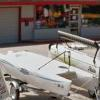Boat: (5, 42, 99, 90)
